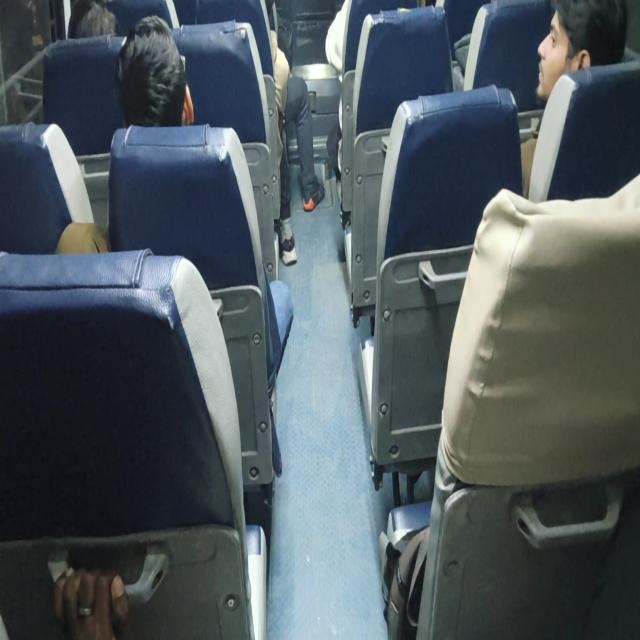person: (55, 14, 294, 474), (193, 0, 325, 265), (55, 14, 194, 254), (519, 0, 627, 198), (268, 27, 326, 265), (534, 0, 626, 105), (115, 14, 194, 128), (52, 566, 130, 638), (67, 1, 120, 38)
